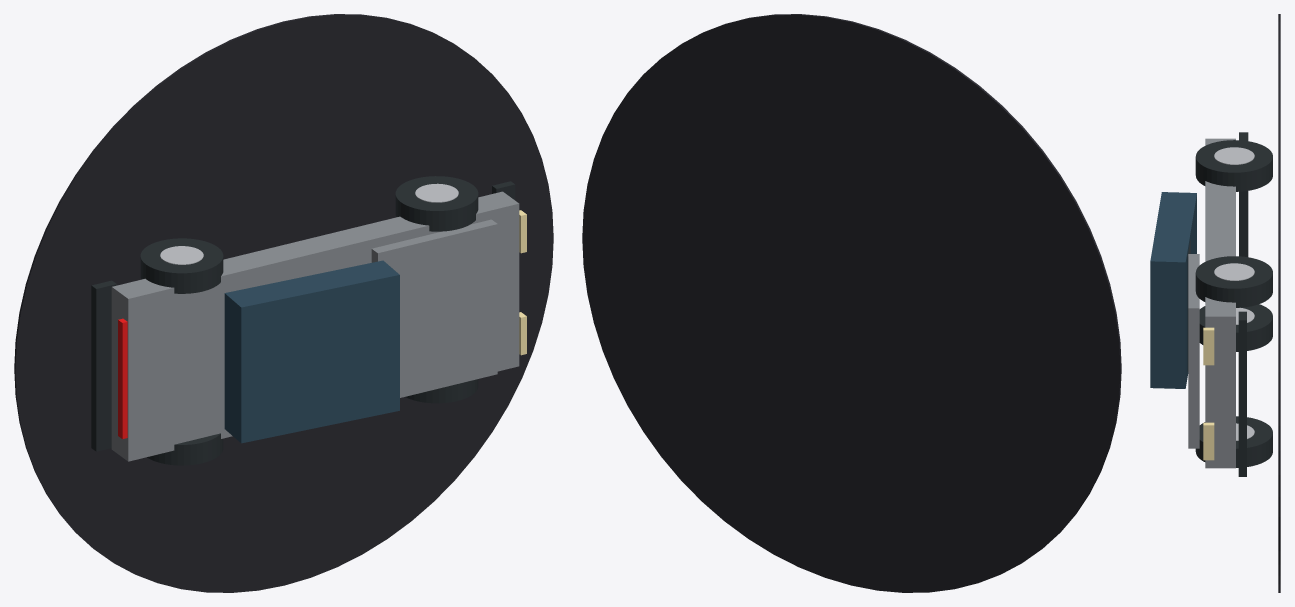
File: mercedes-amg-one.glb
The picture shows the model from 3 angles, left to right: view 1: azimuth 30°, elevation 25°; view 2: azimuth 150°, elevation 25°; view 3: azimuth 270°, elevation 25°; orthographic projection. The views are drawn at different scales.
Parts seen in each view (by area): view 1: world; view 2: world; view 3: world.
Boxes of the visible parts, x1,y1,x2,y2 form: world: [14, 14, 553, 592]; world: [582, 14, 1121, 592]; world: [1150, 14, 1280, 592].
Bounding box in the file's own units: 6.3 × 6.3 × 1.42.
